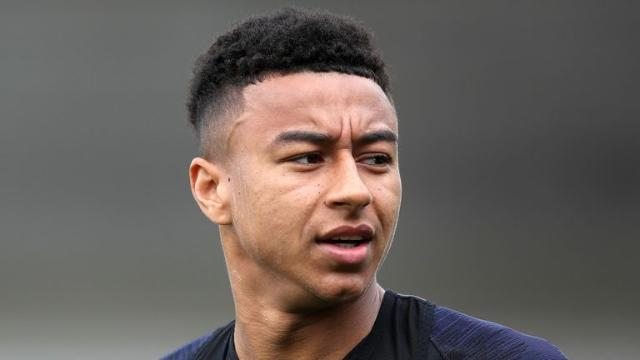frown_line: (330, 114, 354, 148)
gummy_smile: (300, 190, 324, 226), (372, 204, 386, 230)
